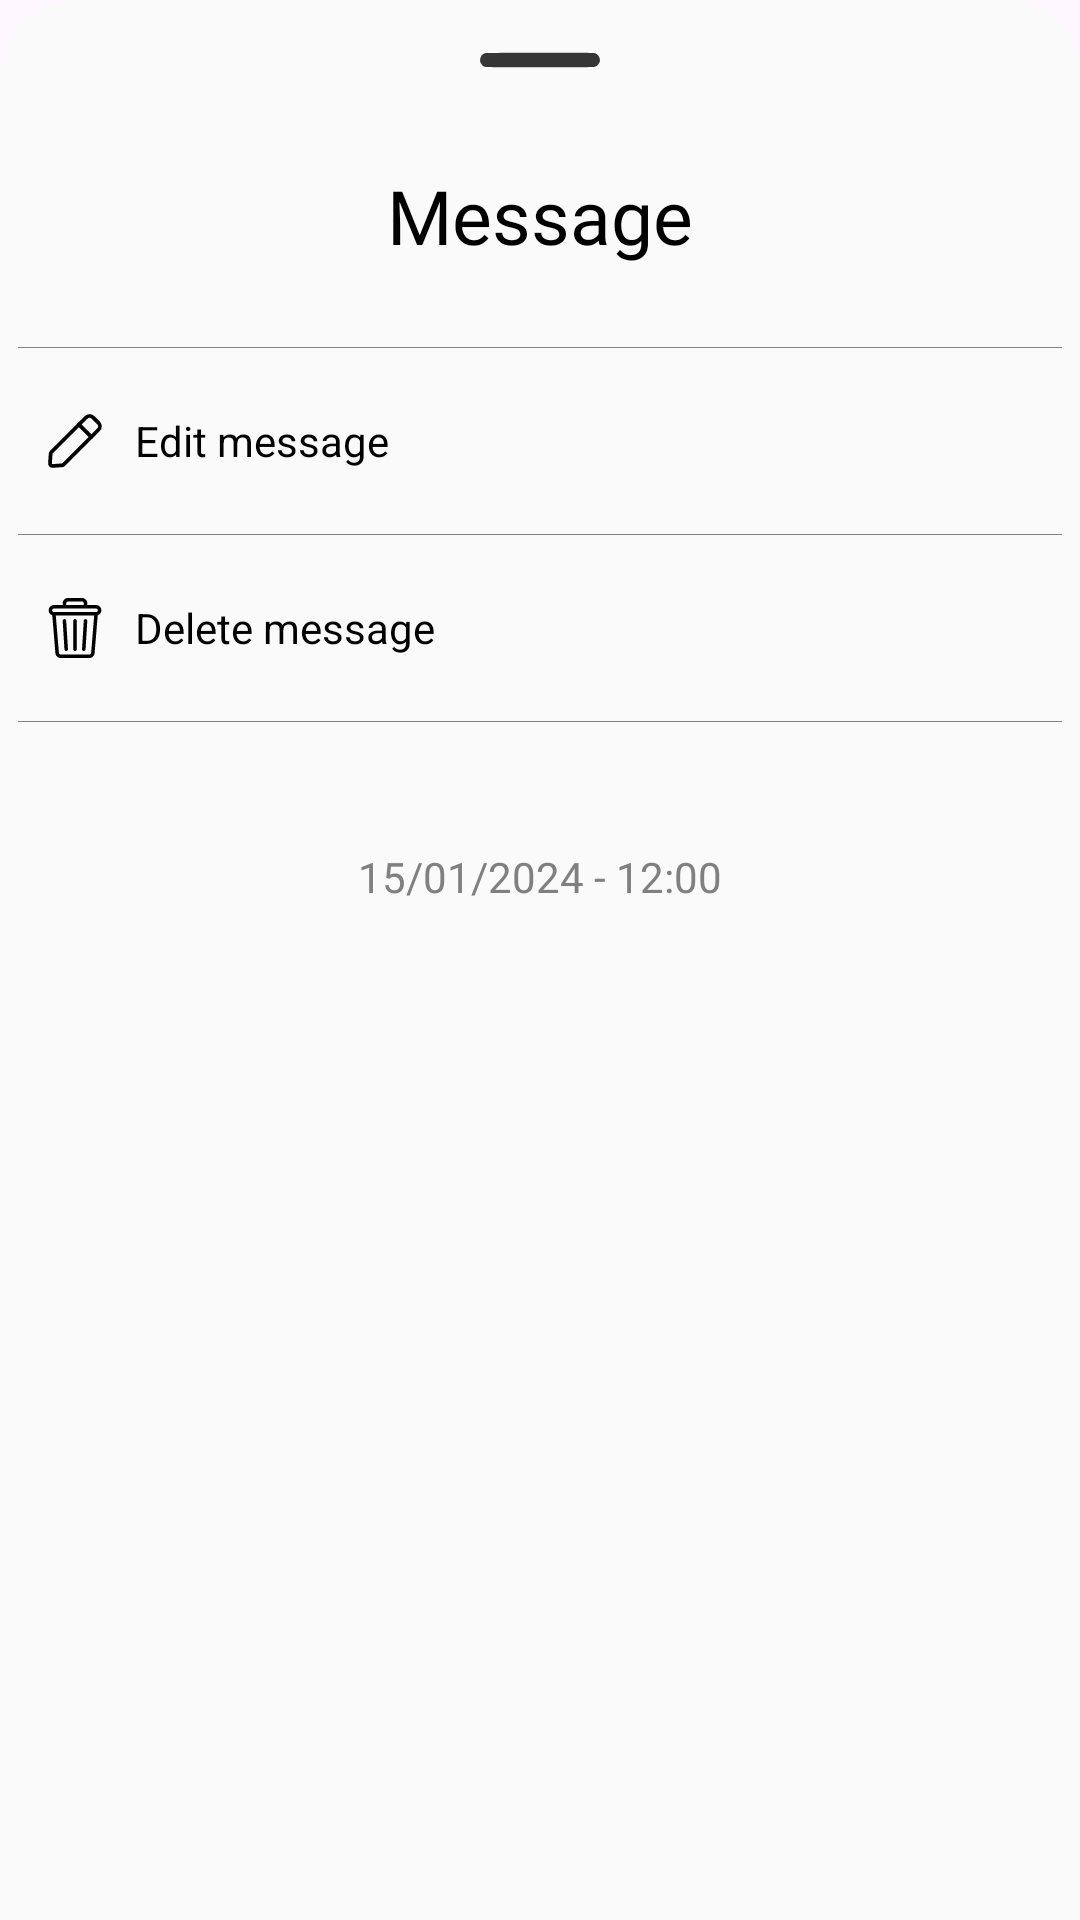

Screen size 1080x1920. Icon name, then its center in pixels as (x,y):
delete msg: (75,628)
edit msg: (75,441)
